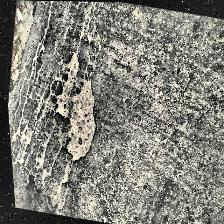pothole: (35, 46, 109, 170)
